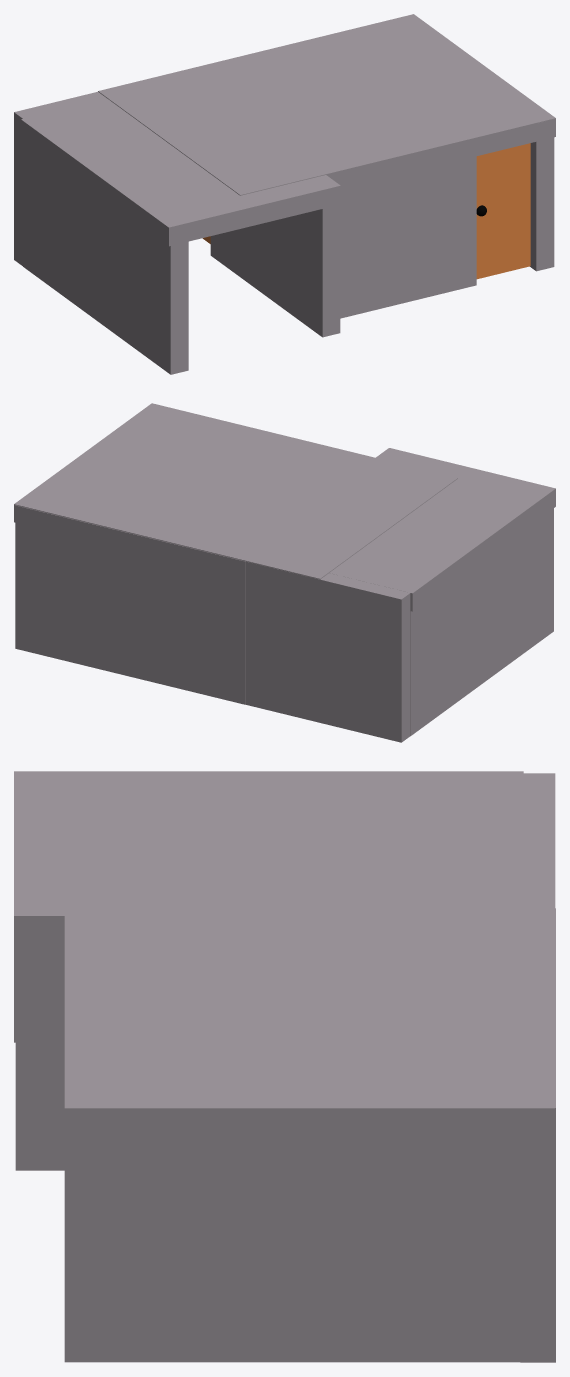
File: shack.glb
The picture shows the model from 3 angles, top to bottom: view 1: azimuth 30°, elevation 25°; view 2: azimuth 150°, elevation 25°; view 3: azimuth 270°, elevation 25°; orthographic projection. The views are drawn at different scales.
Parts seen in each view (by area): view 1: Cube.002, Cube.005, Cube.004, shack_door, Cube.003; view 2: Cube.002, Cube.005, Cube.001; view 3: Cube.005, Cube.003, Cube.002, Cube.001.
Part boxes in pixels (box(x1,y1,x2,y2)): Cube.002: box(14, 91, 340, 374); Cube.005: box(98, 14, 555, 195); Cube.004: box(340, 156, 476, 318); shack_door: box(476, 143, 530, 279); Cube.003: box(530, 119, 554, 271); Cube.002: box(245, 448, 555, 742); Cube.005: box(14, 403, 457, 579); Cube.001: box(15, 505, 245, 704); Cube.005: box(64, 842, 554, 1140); Cube.003: box(64, 1140, 520, 1362); Cube.002: box(14, 771, 555, 1170); Cube.001: box(520, 908, 555, 1362).
Bounding box in the file's own units: 27.25 × 9.62 × 18.47.
